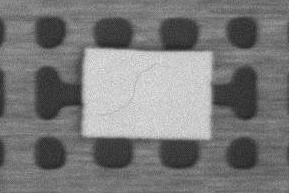DIE_CRACK: (96, 63, 160, 117)
